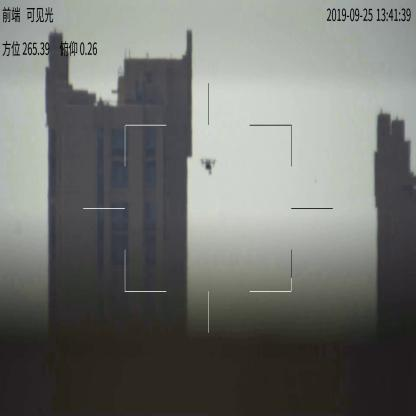uav: (202, 157, 220, 178)
